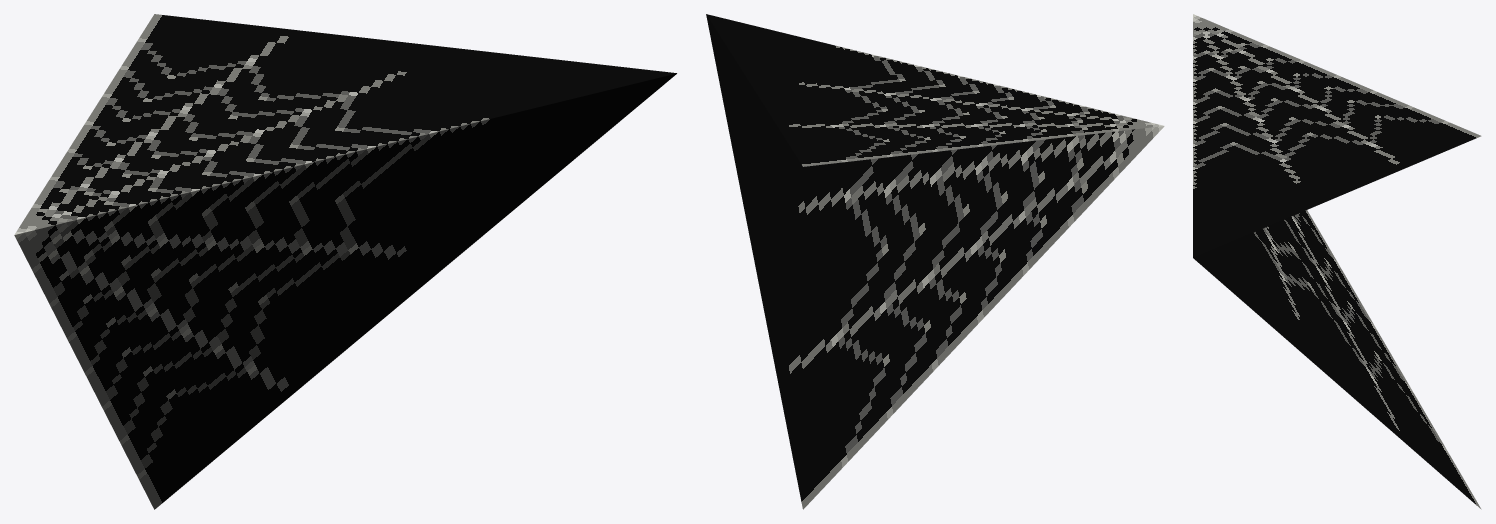
File: cobweb.glb
The picture shows the model from 3 angles, left to right: view 1: azimuth 30°, elevation 25°; view 2: azimuth 150°, elevation 25°; view 3: azimuth 270°, elevation 25°; orthographic projection. The views are drawn at different scales.
Visible parts, largest first — view 1: cobweb; view 2: cobweb; view 3: cobweb.
Part boxes in pixels (box(x1,y1,x2,y2)): cobweb: box(14, 14, 676, 509); cobweb: box(706, 14, 1164, 509); cobweb: box(1193, 14, 1481, 509).
Size of the model in its own units: 0.9802 by 0.7002 by 0.4901.
1 material, 1 textured.
